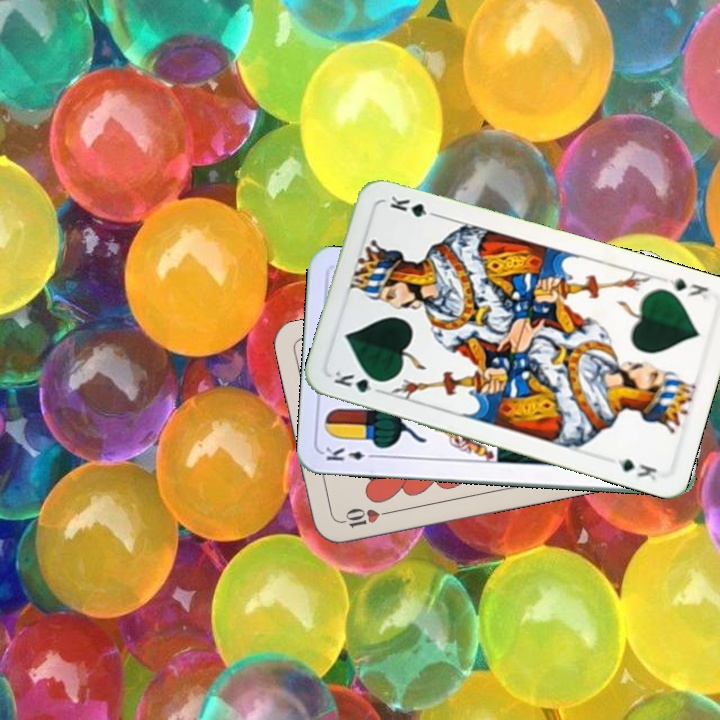EK: (321, 443, 380, 463)
GK: (329, 366, 388, 396), (666, 274, 711, 303)
H10: (335, 504, 394, 531)
